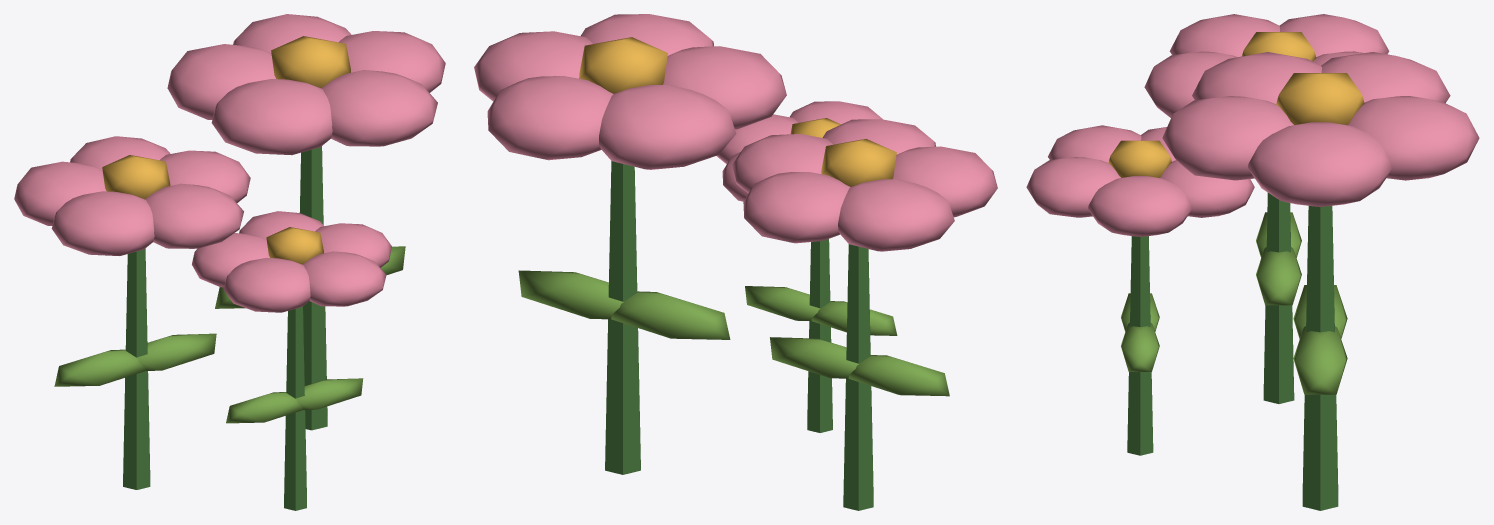
The model's file is flower_pink_cluster_01.glb.
3 views of the same model, side by side, from view 1: azimuth 30°, elevation 25°; view 2: azimuth 150°, elevation 25°; view 3: azimuth 270°, elevation 25° (orthographic). The views are drawn at different scales.
Visible parts, largest first — view 1: flower_pink_cluster_01; view 2: flower_pink_cluster_01; view 3: flower_pink_cluster_01.
Boxes of the visible parts, left/top/right/bottom form: flower_pink_cluster_01: left=14, top=14, right=445, bottom=510; flower_pink_cluster_01: left=474, top=14, right=997, bottom=510; flower_pink_cluster_01: left=1026, top=14, right=1479, bottom=510.
Bounding box in the file's own units: 0.386 × 0.341 × 0.327.
